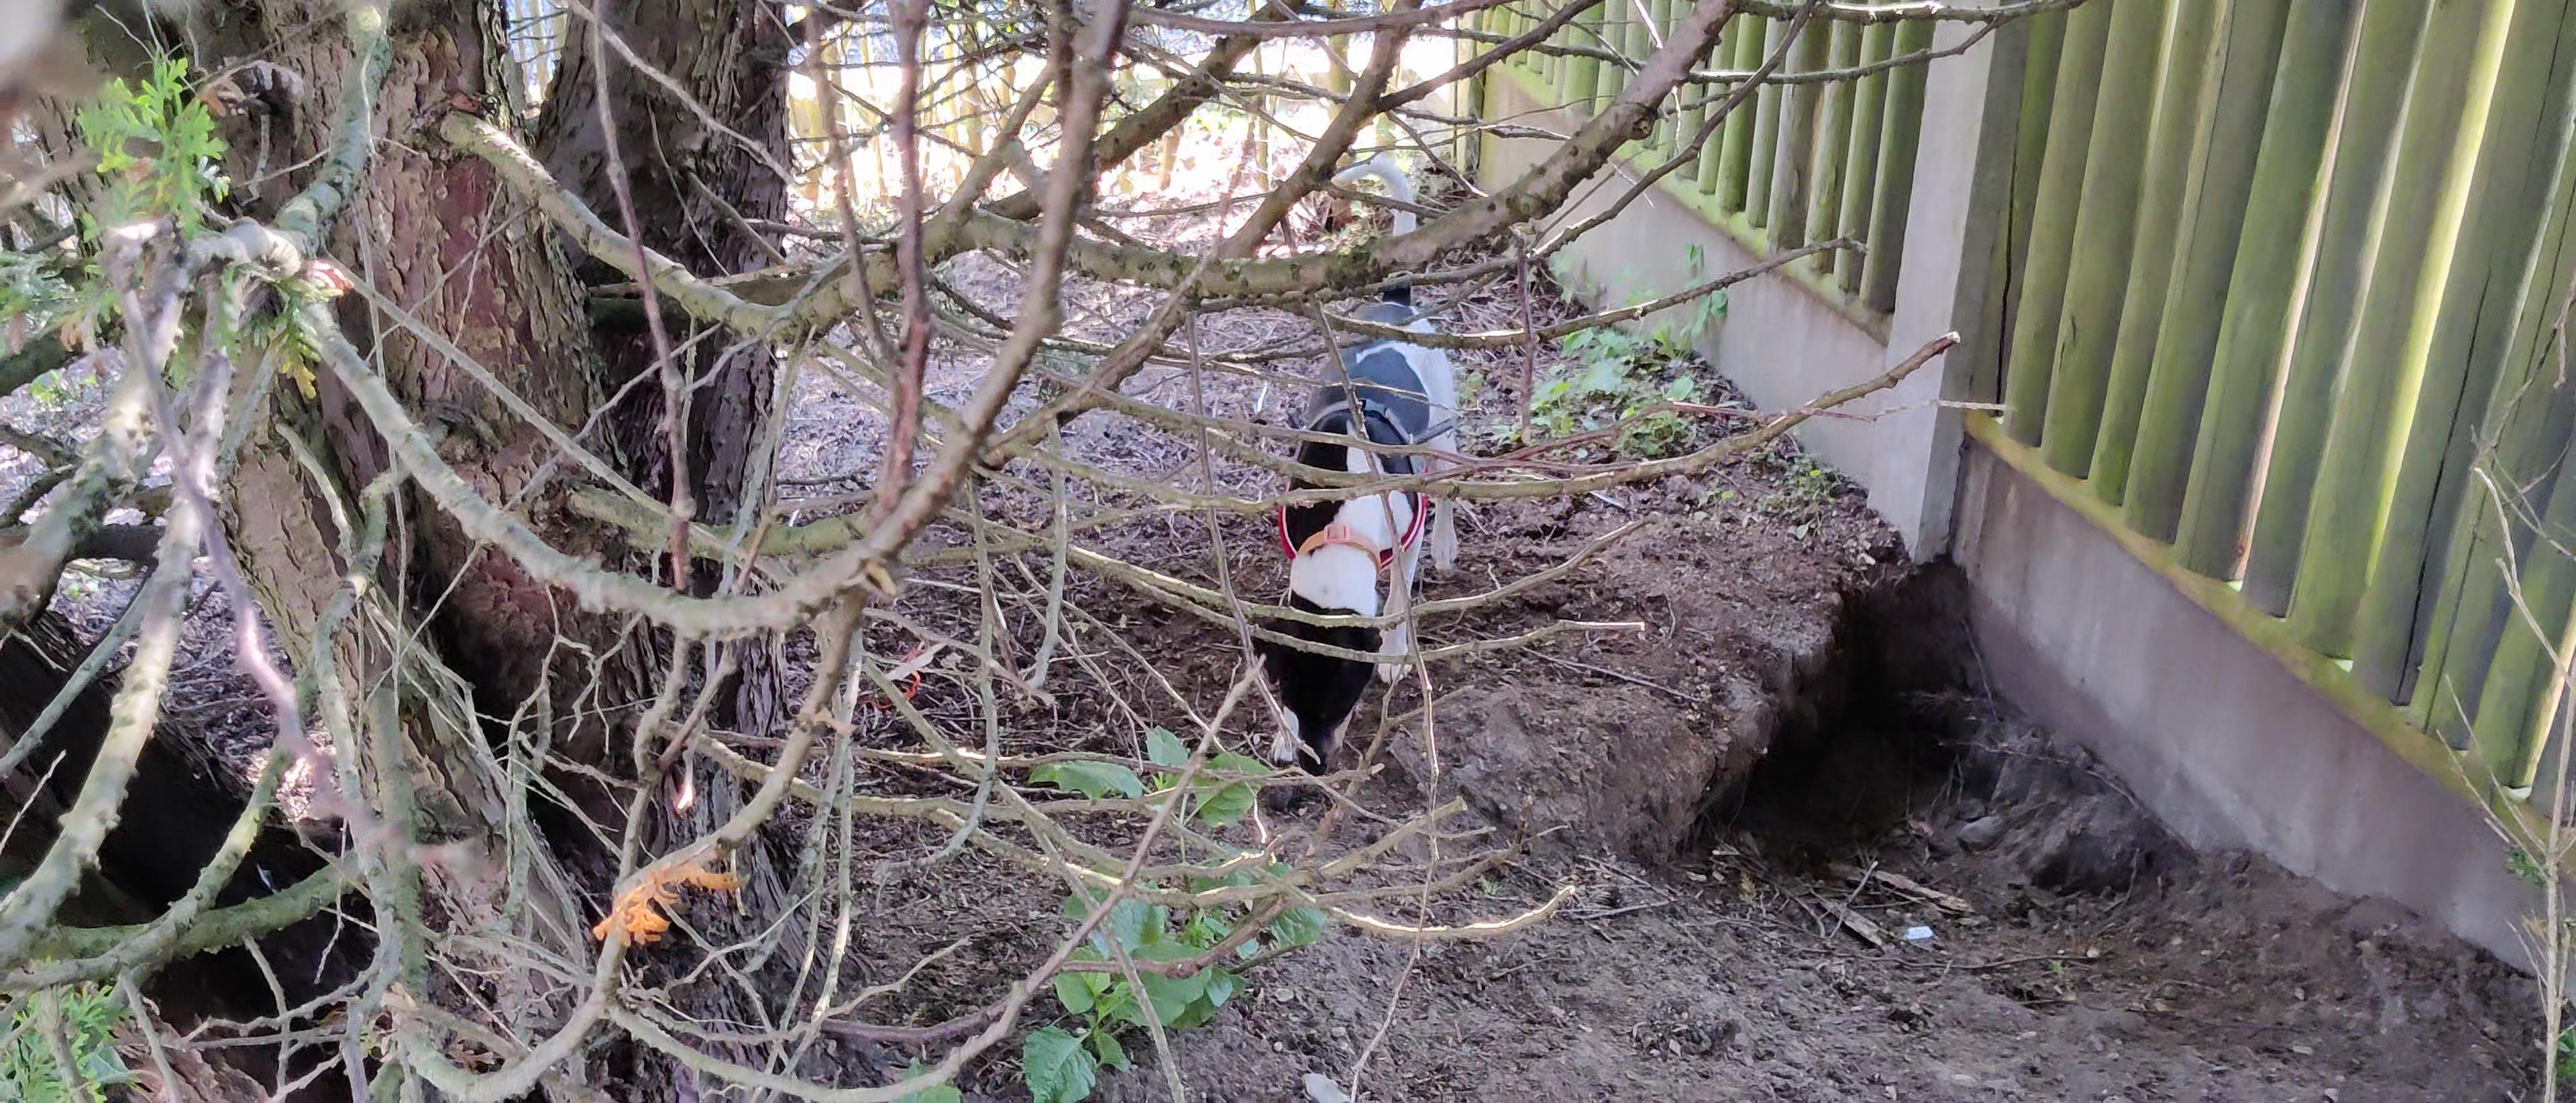Dog: (1224, 143, 1485, 796)
